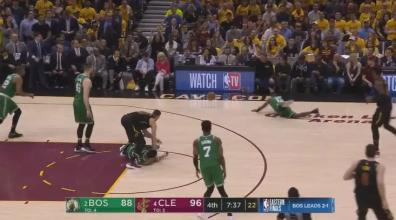10+: (1, 1, 396, 220)
down: (250, 92, 322, 120), (117, 140, 169, 168)
